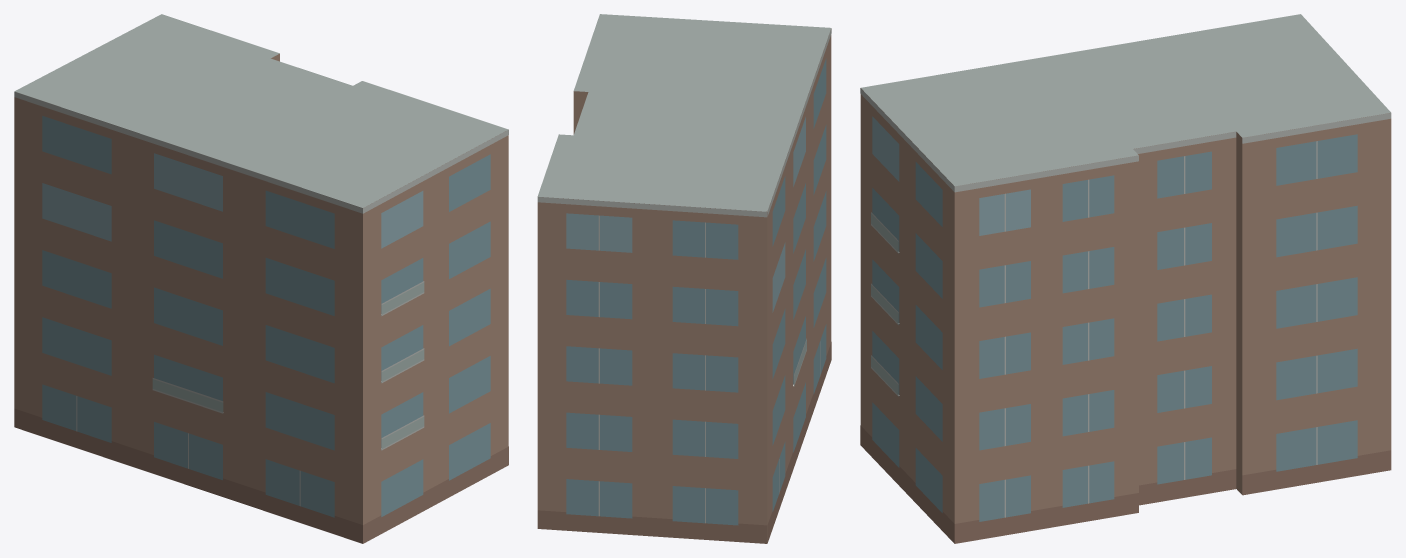
Rendered from survey-upis-32722157.glb.
The picture shows the model from 3 angles, left to right: view 1: azimuth 30°, elevation 25°; view 2: azimuth 150°, elevation 25°; view 3: azimuth 270°, elevation 25°; orthographic projection. The views are drawn at different scales.
Parts seen in each view (by area): view 1: survey-upis-32722157.tmp; view 2: survey-upis-32722157.tmp; view 3: survey-upis-32722157.tmp.
Part boxes in pixels (bbox=[...]): survey-upis-32722157.tmp: bbox=[14, 14, 508, 543]; survey-upis-32722157.tmp: bbox=[537, 14, 831, 543]; survey-upis-32722157.tmp: bbox=[860, 14, 1391, 543].
Bounding box in the file's own units: 15.11 × 14.6 × 19.66.
